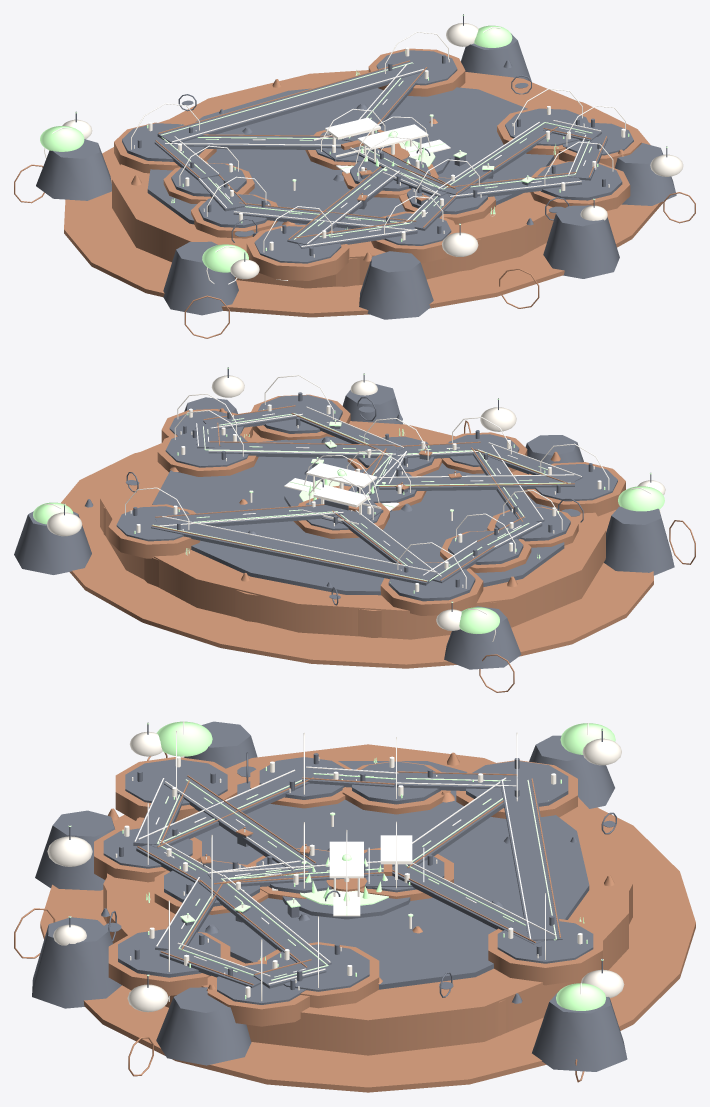
File: terrain.glb
The picture shows the model from 3 angles, top to bottom: view 1: azimuth 30°, elevation 25°; view 2: azimuth 150°, elevation 25°; view 3: azimuth 270°, elevation 25°; orthographic projection. The views are drawn at different scales.
Parts seen in each view (by area): view 1: terrain:near:surface:1, terrain:near:surface:0, terrain:near:surface:3, terrain:near:surface:2, terrain:far:surface:2, terrain:far:surface:0; view 2: terrain:near:surface:1, terrain:near:surface:0, terrain:near:surface:3, terrain:near:surface:2, terrain:far:surface:2, terrain:far:surface:0; view 3: terrain:near:surface:1, terrain:near:surface:0, terrain:near:surface:3, terrain:near:surface:2, terrain:far:surface:2, terrain:far:surface:0.
Boxes of the visible parts, <box> form: terrain:near:surface:1: <box>36,33,676,319</box>; terrain:near:surface:0: <box>14,48,695,338</box>; terrain:near:surface:3: <box>44,27,625,284</box>; terrain:near:surface:2: <box>40,25,629,272</box>; terrain:far:surface:2: <box>62,23,683,279</box>; terrain:far:surface:0: <box>257,86,481,286</box>; terrain:near:surface:1: <box>14,384,674,669</box>; terrain:near:surface:0: <box>61,394,695,692</box>; terrain:near:surface:3: <box>44,375,660,641</box>; terrain:near:surface:2: <box>33,409,664,633</box>; terrain:far:surface:2: <box>47,375,665,630</box>; terrain:far:surface:0: <box>103,507,496,637</box>; terrain:near:surface:1: <box>32,721,627,1071</box>; terrain:near:surface:0: <box>14,744,695,1092</box>; terrain:near:surface:3: <box>115,721,588,1001</box>; terrain:near:surface:2: <box>122,721,615,1010</box>; terrain:far:surface:2: <box>47,732,624,1012</box>; terrain:far:surface:0: <box>103,814,632,1035</box>.
Bounding box in the file's own units: 110 × 19.89 × 96.1.
